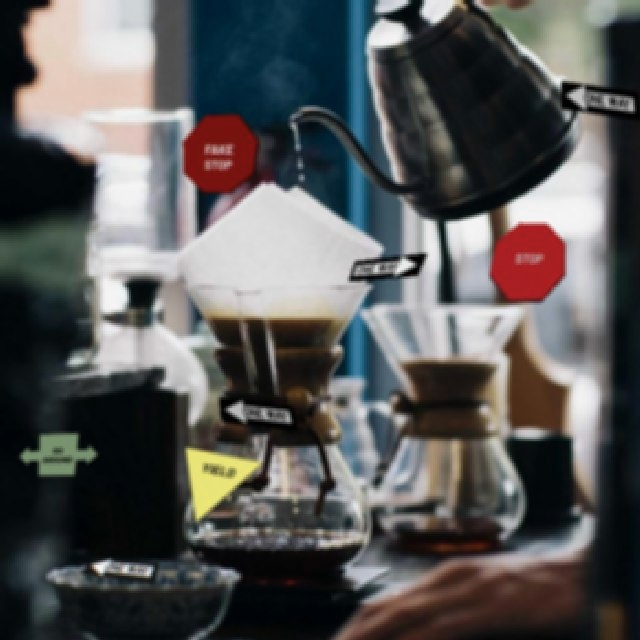FAKE_STOP: (181, 112, 258, 192)
GO_AROUND: (17, 431, 97, 475)
ONE_WAY_ left: (559, 79, 639, 119), (217, 395, 297, 429), (78, 555, 158, 582)
ONE_WAY_ right: (346, 251, 426, 280)
STOP: (487, 221, 564, 301)
YIELD: (183, 445, 263, 523)
